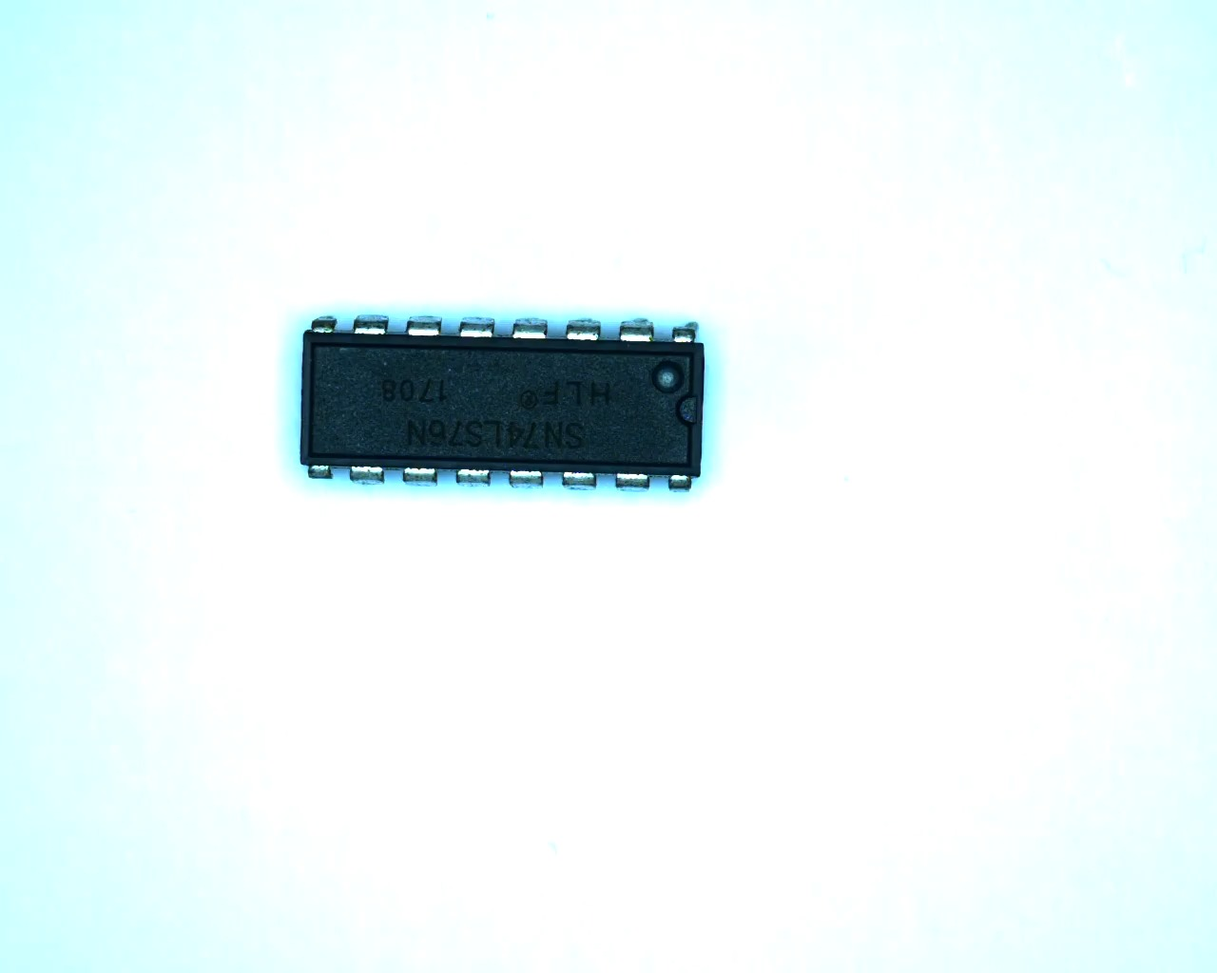IC: (293, 310, 715, 501)
notch: (672, 387, 704, 434)
